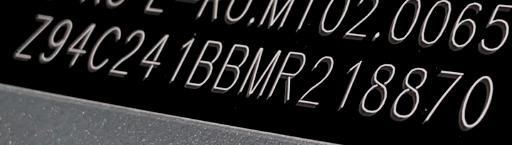letter: (418, 69, 462, 124), (266, 50, 310, 103), (455, 75, 497, 130), (11, 13, 55, 62), (240, 45, 280, 96), (358, 63, 398, 114), (390, 66, 428, 119), (84, 24, 124, 73), (110, 28, 148, 79), (186, 37, 224, 88), (300, 55, 334, 110), (330, 60, 366, 109), (214, 42, 248, 93), (140, 31, 176, 78), (40, 18, 72, 65), (65, 21, 97, 67), (166, 36, 196, 83)
